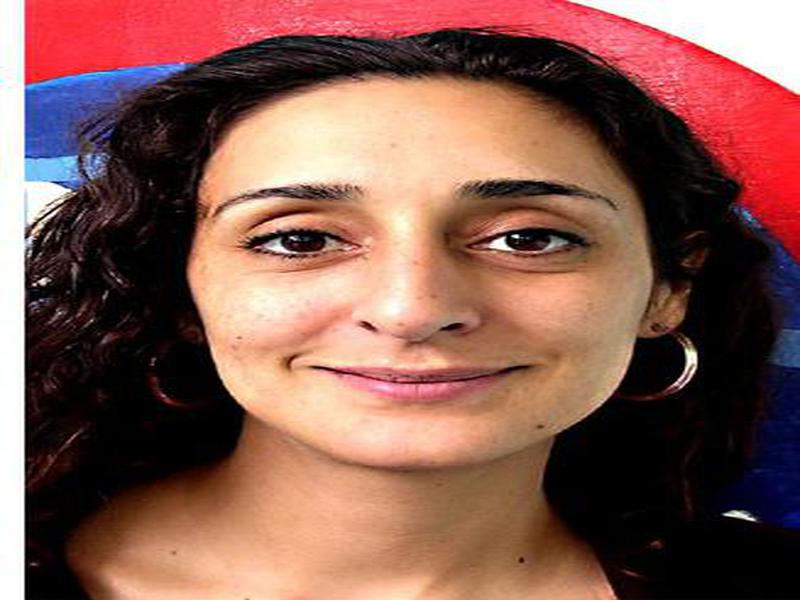without_mask: (195, 82, 636, 476)
